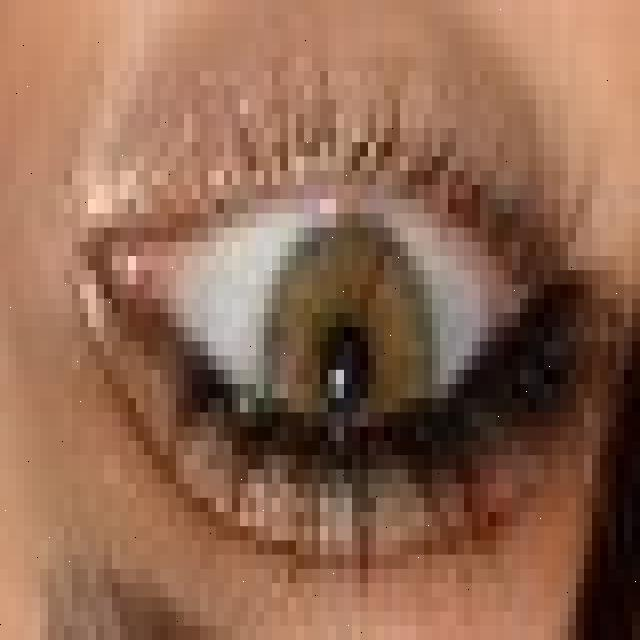Normal: (270, 217, 430, 529)
